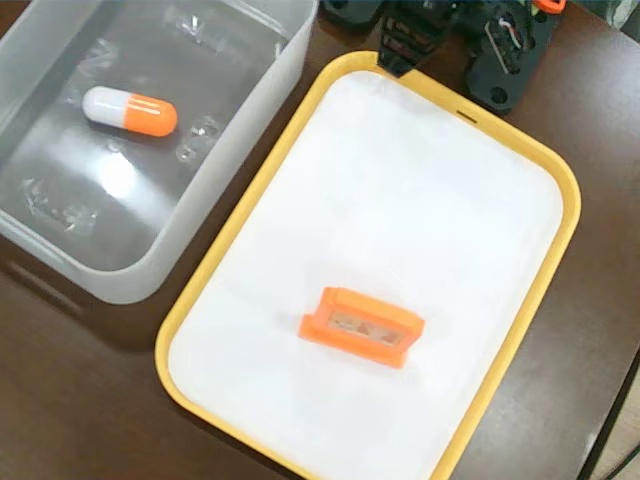pill: (78, 83, 186, 138)
